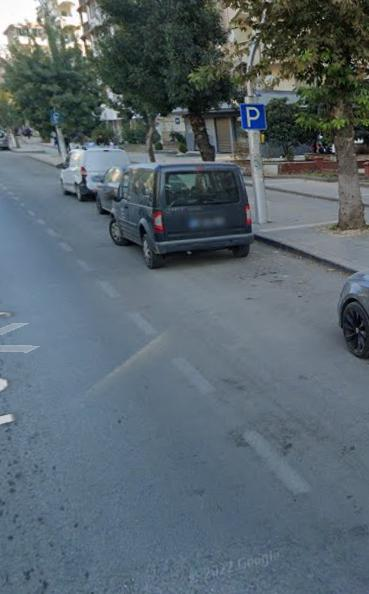park: (236, 100, 274, 133)
